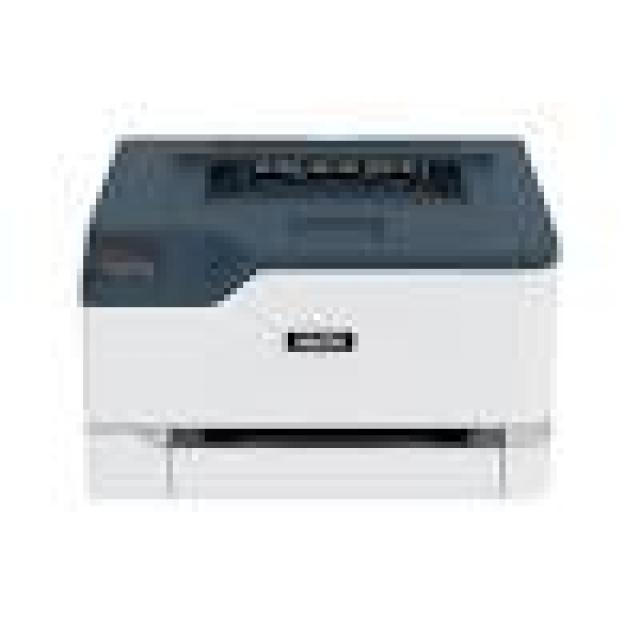printer: (61, 96, 593, 543)
